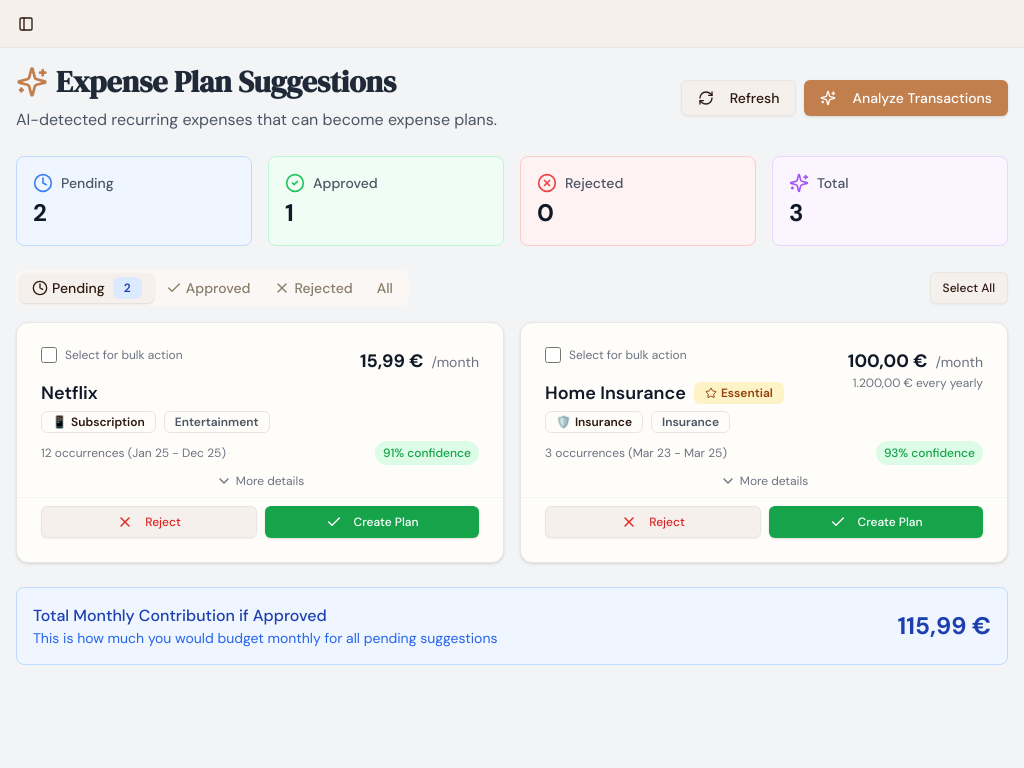
Scenario: Expense Plan Suggestions › Bulk Actions › should select all pending suggestions
// Click Select All button
Click the button "Select All" at coordinates (969, 288), box [930,272,1008,304]
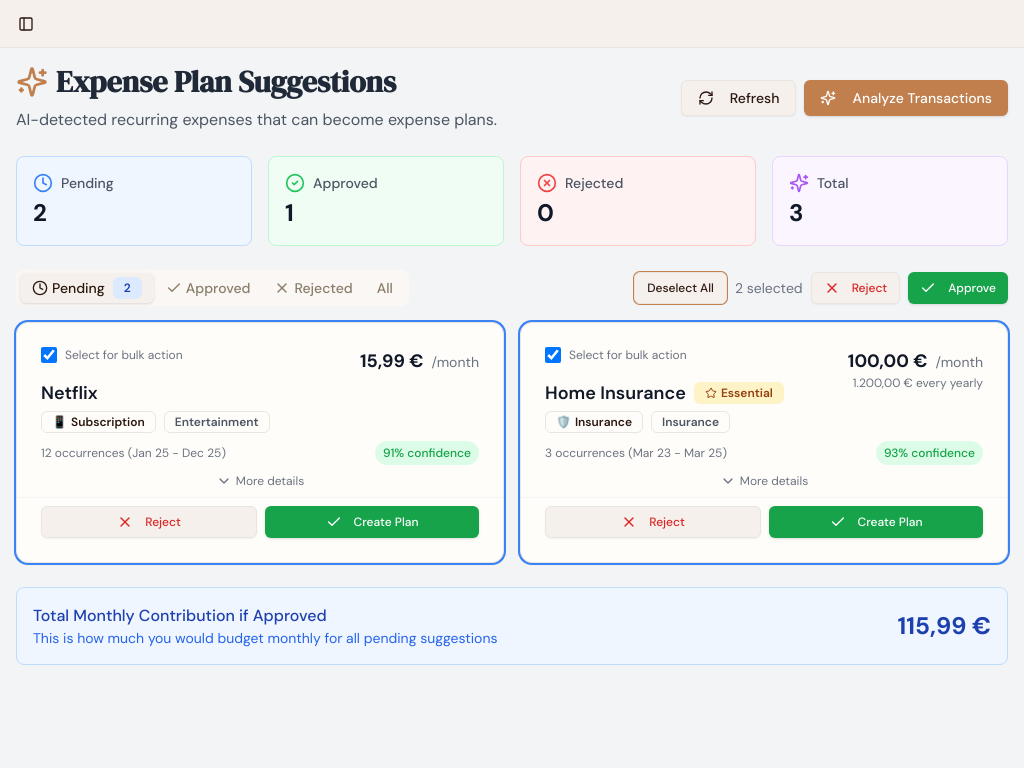
Check: the tab "Approved" is shown, box [154,274,262,302]
Check: the text "2 selected" is shown, box [735,278,803,298]
